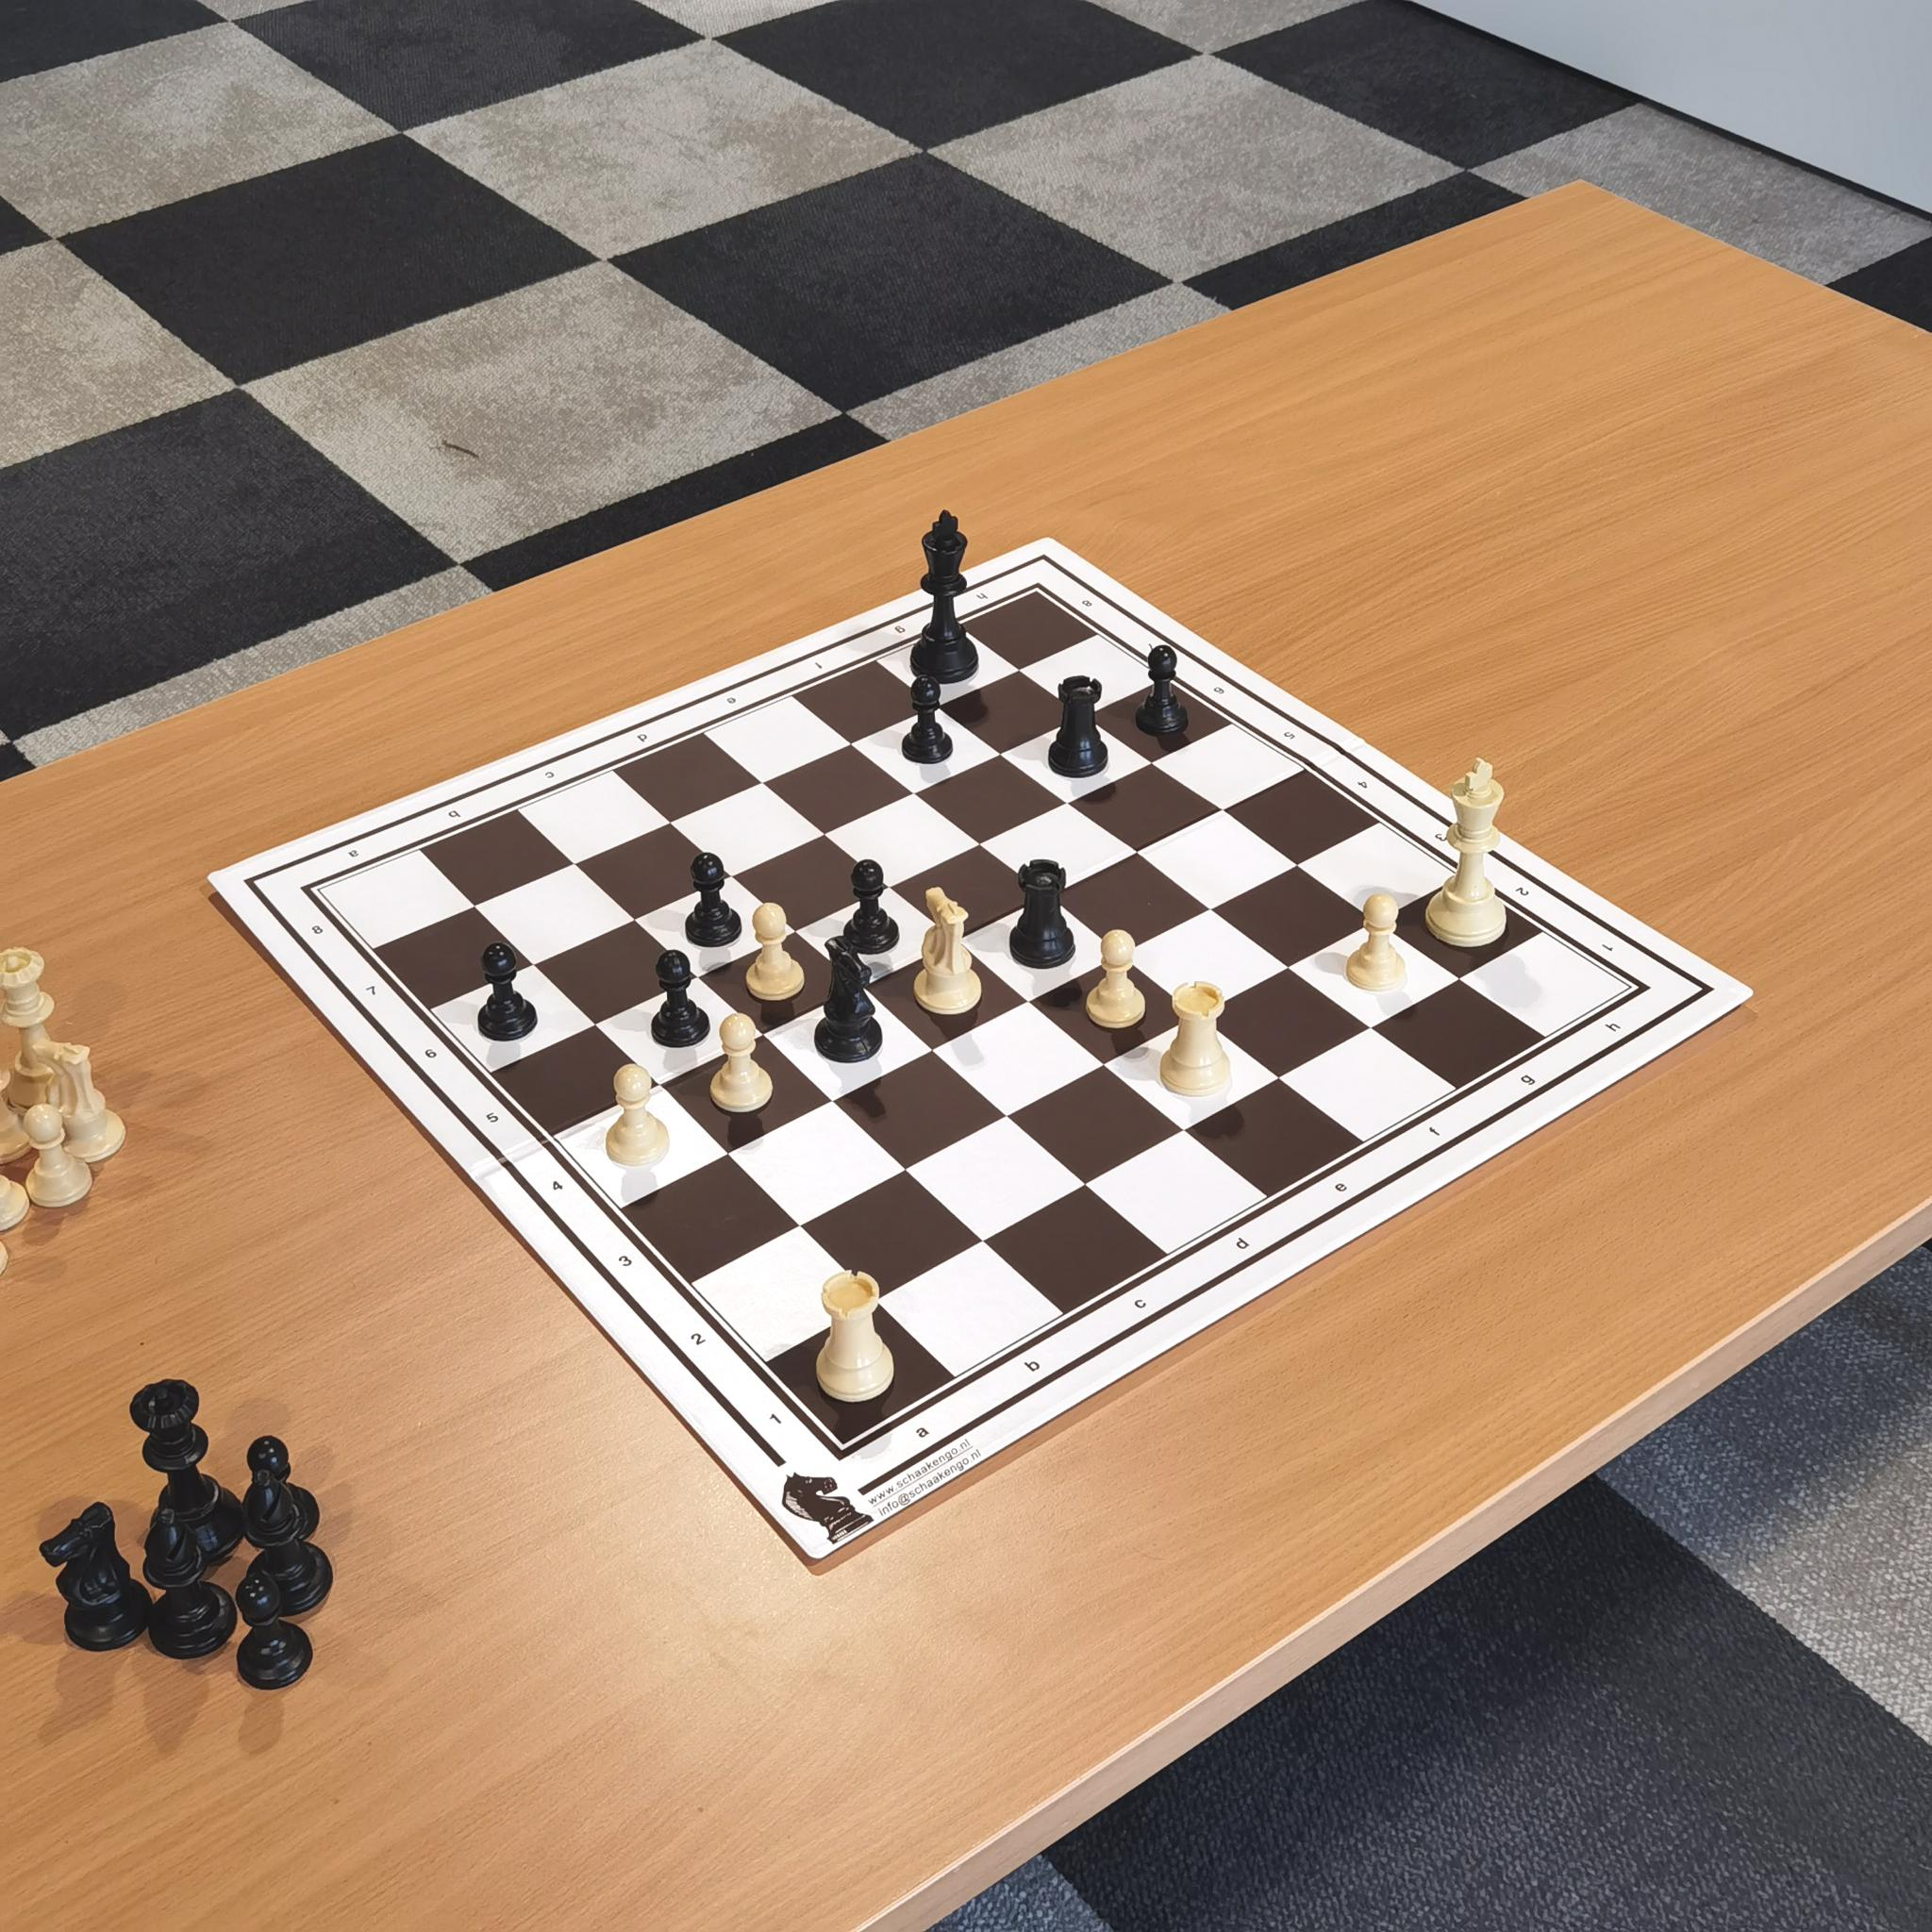corners: (823, 1431, 865, 1483), (290, 872, 345, 911), (1606, 968, 1660, 1007), (1019, 580, 1053, 609)
eight: (297, 908, 340, 947), (1072, 582, 1113, 617)
one: (754, 1394, 800, 1447), (1587, 931, 1622, 964)
